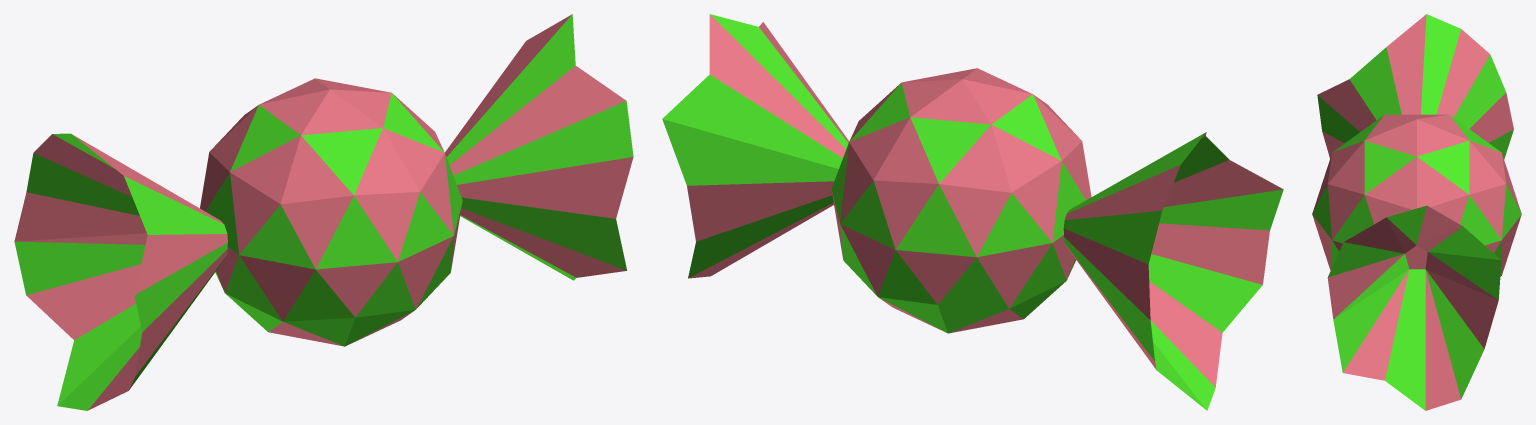
The model's file is Taffy01.fbx.
The picture shows the model from 3 angles, left to right: view 1: azimuth 30°, elevation 25°; view 2: azimuth 150°, elevation 25°; view 3: azimuth 270°, elevation 25°; orthographic projection. The views are drawn at different scales.
Visible parts, largest first — view 1: Candy; view 2: Candy; view 3: Candy.
Part boxes in pixels (bbox=[...]): Candy: bbox=[14, 14, 633, 410]; Candy: bbox=[662, 14, 1283, 410]; Candy: bbox=[1312, 14, 1521, 410].
Size of the model in its own units: 390 by 202 by 180.
